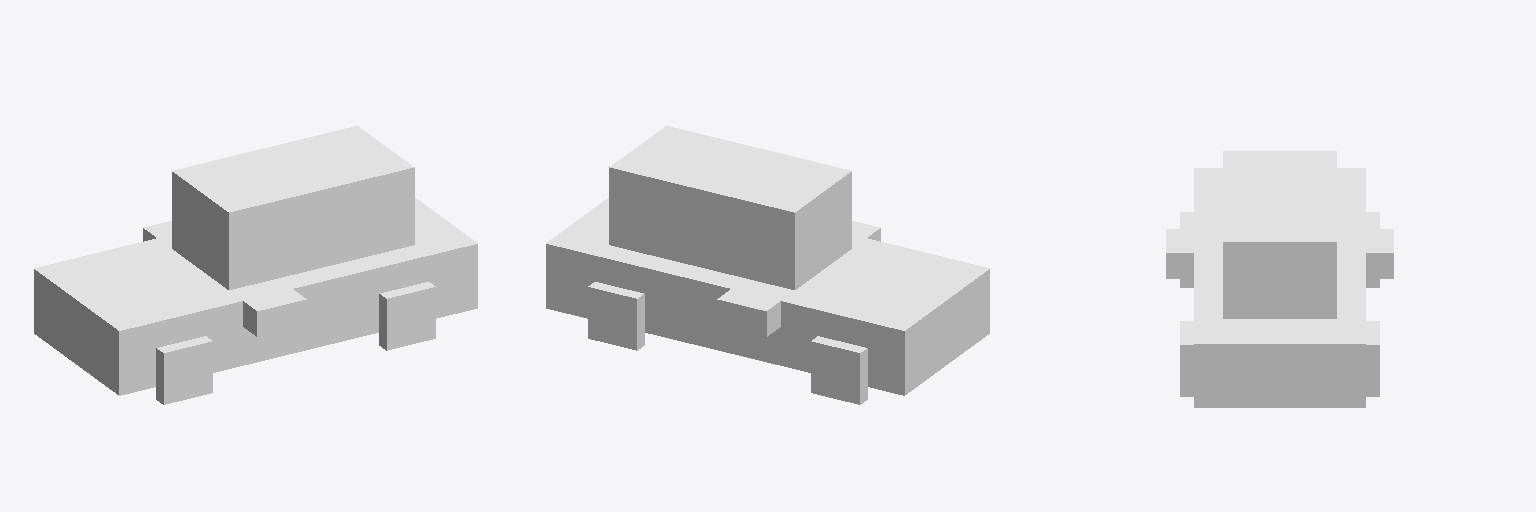
File: xengantim.obj
The picture shows the model from 3 angles: view 1: azimuth 30°, elevation 25°; view 2: azimuth 150°, elevation 25°; view 3: azimuth 270°, elevation 25°; orthographic projection.
Visible parts, largest first — view 1: object 1; view 2: object 1; view 3: object 1.
Part boxes in pixels (x1,y1,x2,y2): object 1: (34, 126, 477, 404); object 1: (546, 126, 989, 404); object 1: (1166, 151, 1393, 407).
Bounding box in the file's own units: 2.9 × 1.2 × 1.6.